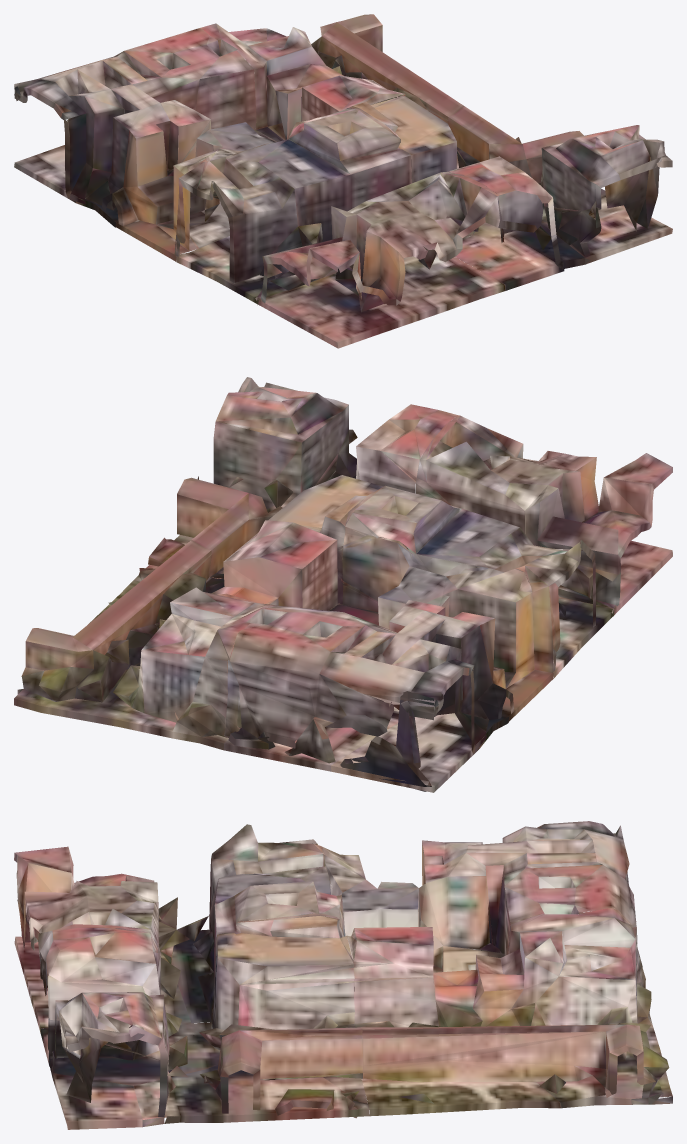
3 renders of one model, top to bottom at view 1: azimuth 30°, elevation 25°; view 2: azimuth 150°, elevation 25°; view 3: azimuth 270°, elevation 25°, orthographic. The views are drawn at different scales.
Visible parts, largest first — view 1: Mesh_0; view 2: Mesh_0; view 3: Mesh_0.
Part boxes in pixels (bbox=[...]): Mesh_0: bbox=[14, 14, 672, 348]; Mesh_0: bbox=[14, 377, 672, 792]; Mesh_0: bbox=[14, 821, 672, 1129].
Bounding box in the file's own units: 133 × 34.07 × 165.
Materials: 1 (1 with a texture image).
